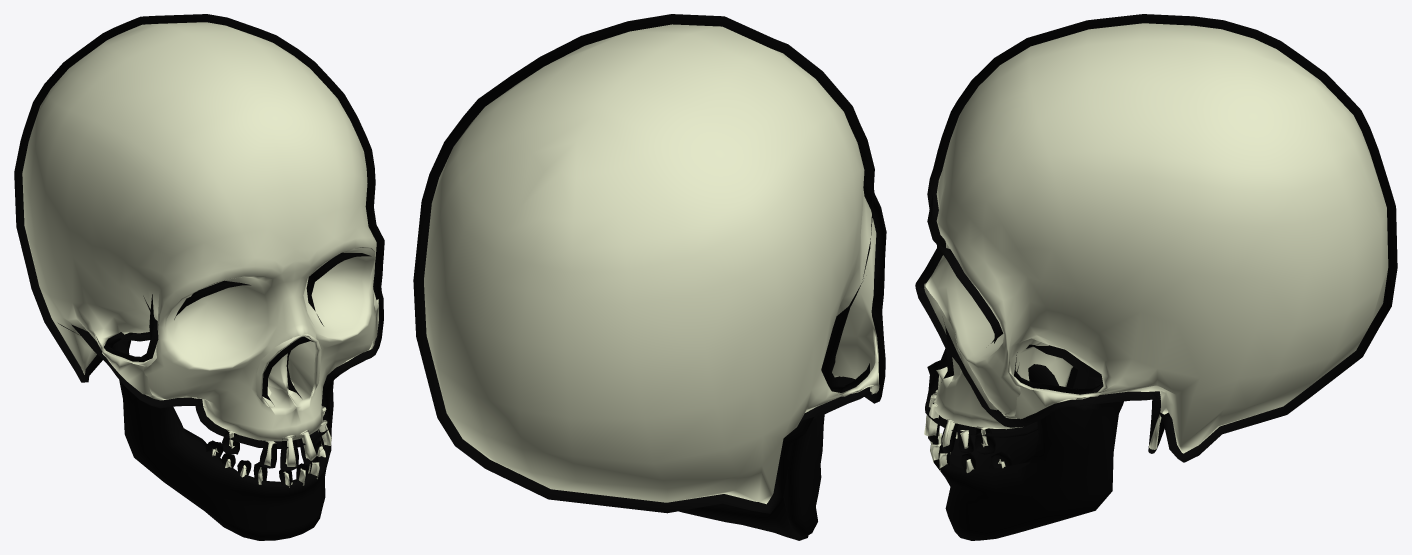
Rendered from Skull1.fbx.
The picture shows the model from 3 angles, left to right: view 1: azimuth 30°, elevation 25°; view 2: azimuth 150°, elevation 25°; view 3: azimuth 270°, elevation 25°; orthographic projection. The views are drawn at different scales.
Visible parts, largest first — view 1: Skull1; view 2: Skull1; view 3: Skull1.
Part boxes in pixels (left/top/right/bottom): Skull1: left=14, top=14, right=384, bottom=540; Skull1: left=413, top=14, right=886, bottom=540; Skull1: left=915, top=14, right=1397, bottom=540.
Bounding box in the file's own units: 0.7037 × 1 × 0.8822.
